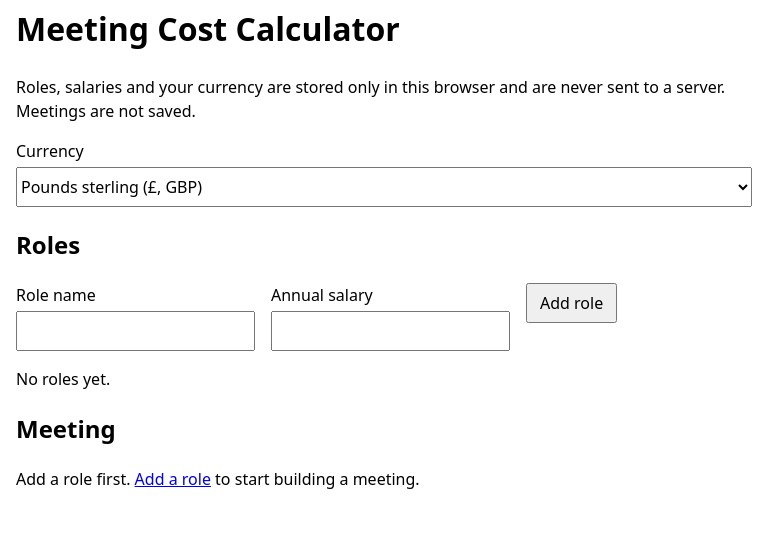
Test case: roles (AC-1, AC-4) › does not add a role with a blank name
This screenshot has width=769, height=534.
Type "36400" into the field labelled "Annual salary" at (390, 331), box [271,311,510,351]
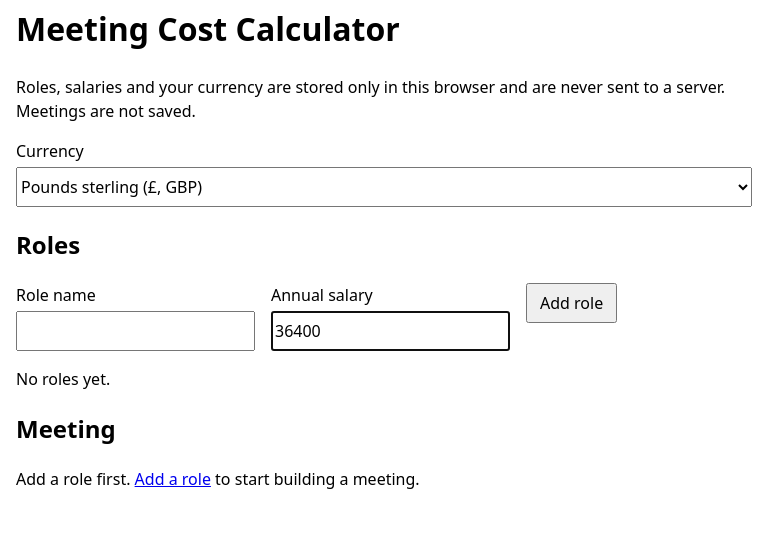
Click the button "Add role" at (572, 303), box [526,283,617,323]
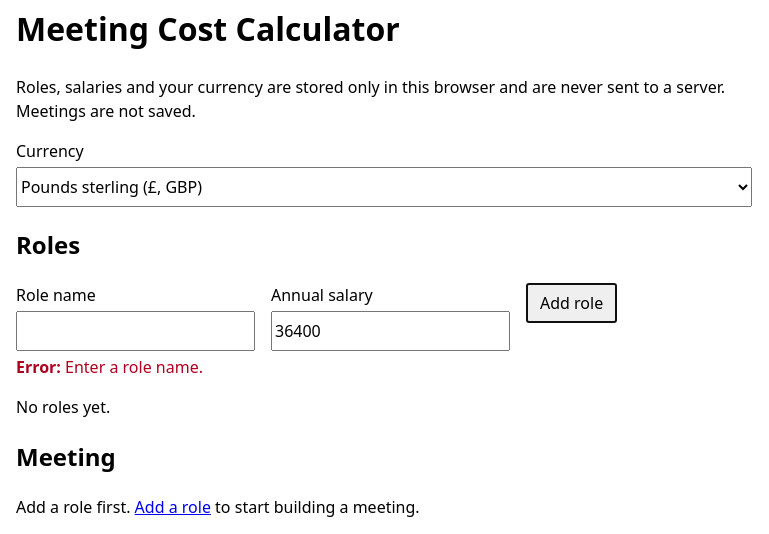
expect the text "Enter a role name." is shown: met, box [65,356,203,378]
